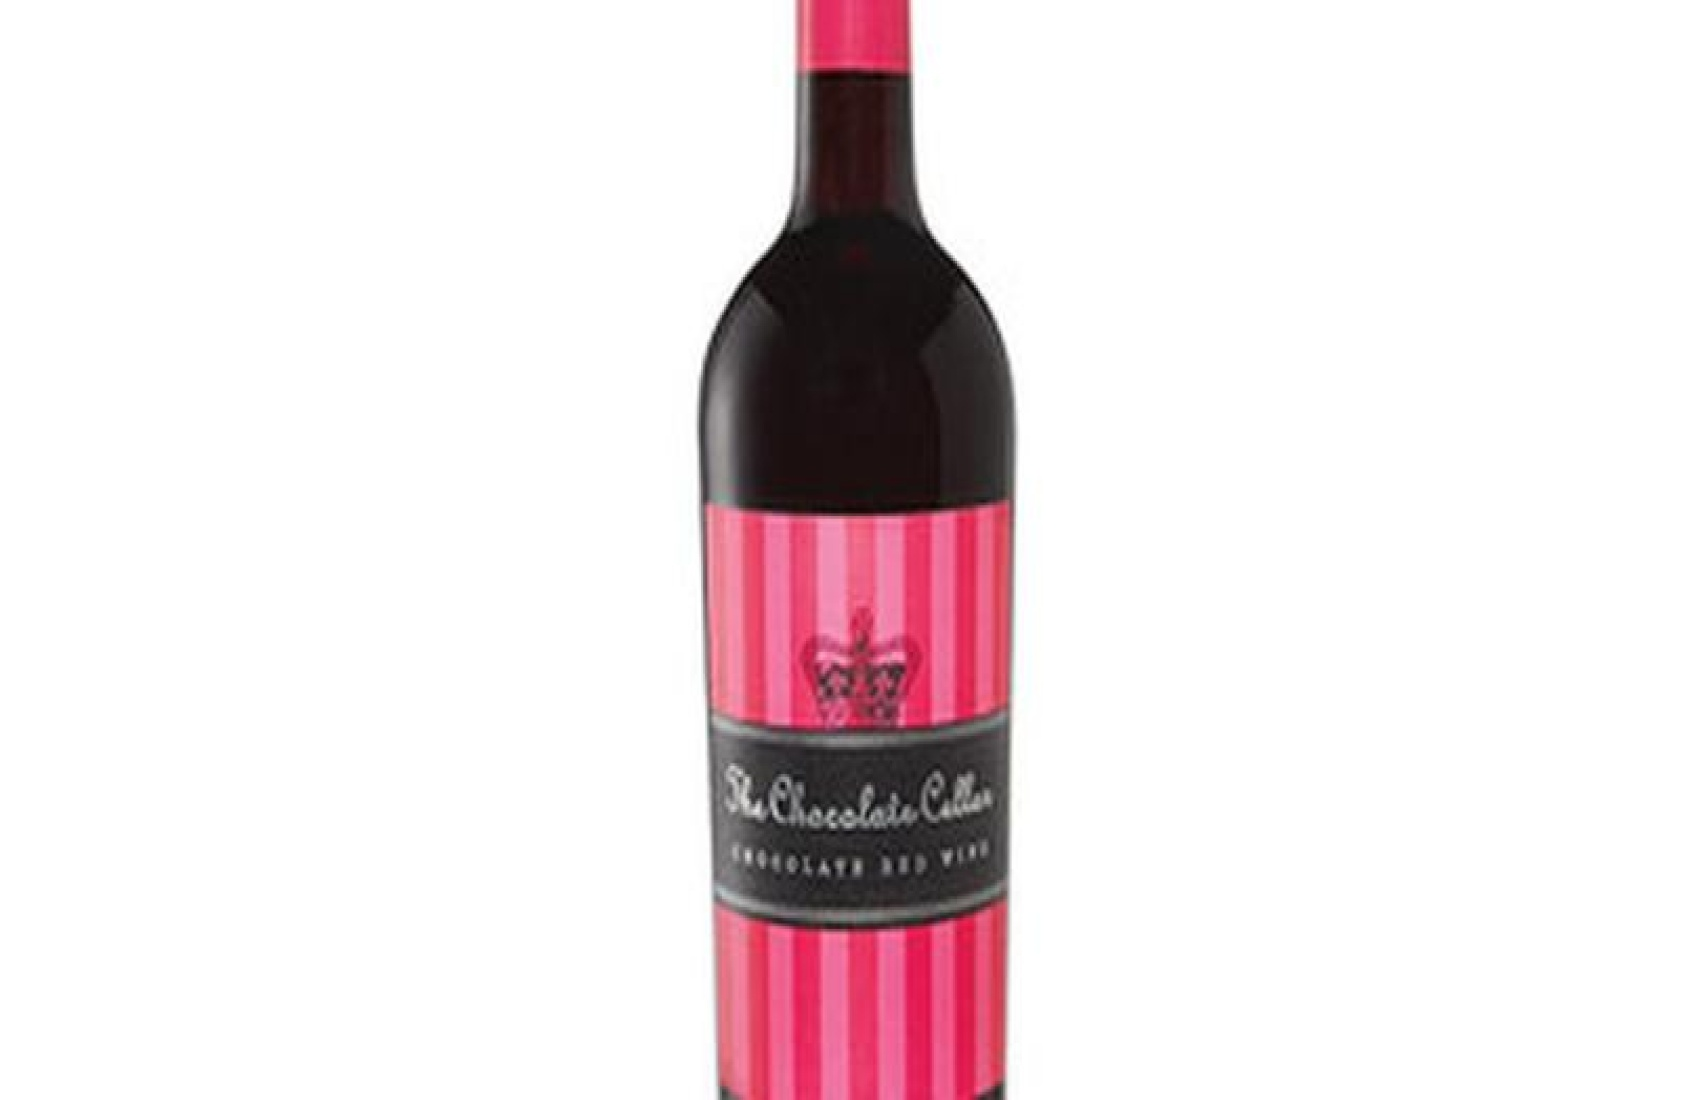wine: (703, 10, 1014, 1100)
